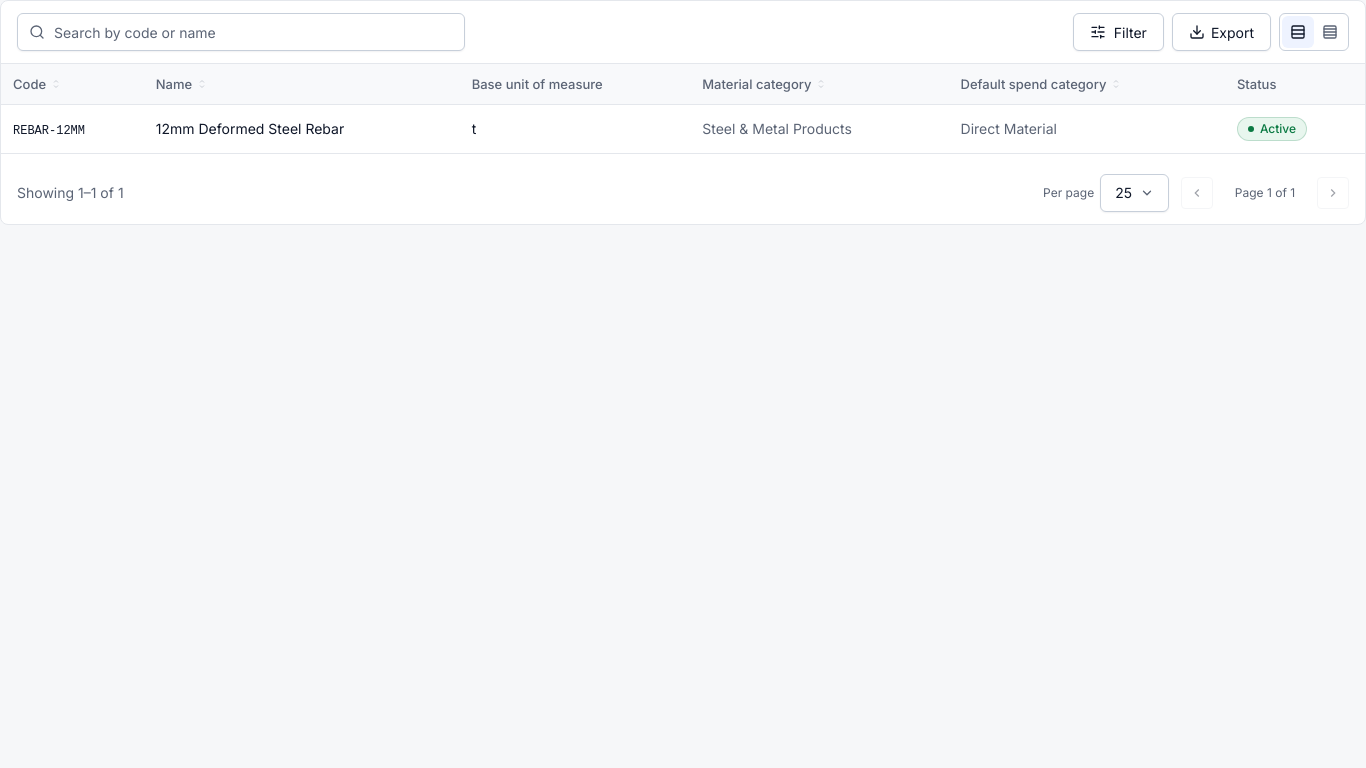
MaterialsList › offers Status and both category filters in the one Filter panel
The image size is (1366, 768).
What coordinates should you click on to do the following:
click the button "Filter"
I would click on:
 (1118, 32)
Its box is x1=1073 y1=13 x2=1164 y2=51.
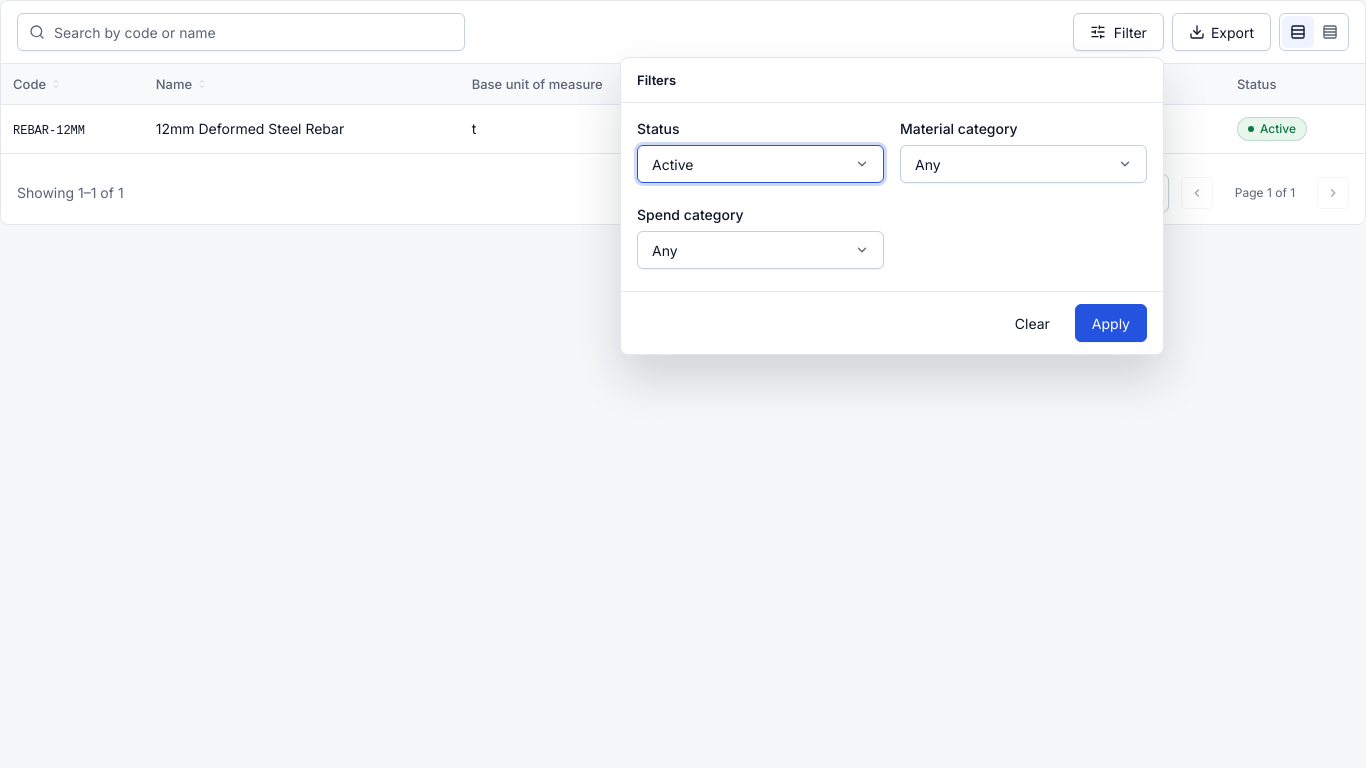
Now the text "Material category" is shown, box x1=900 y1=120 x2=1018 y2=137
Now the text "Spend category" is shown, box x1=637 y1=206 x2=744 y2=223
Now the text "Status" is shown, box x1=637 y1=120 x2=680 y2=137
